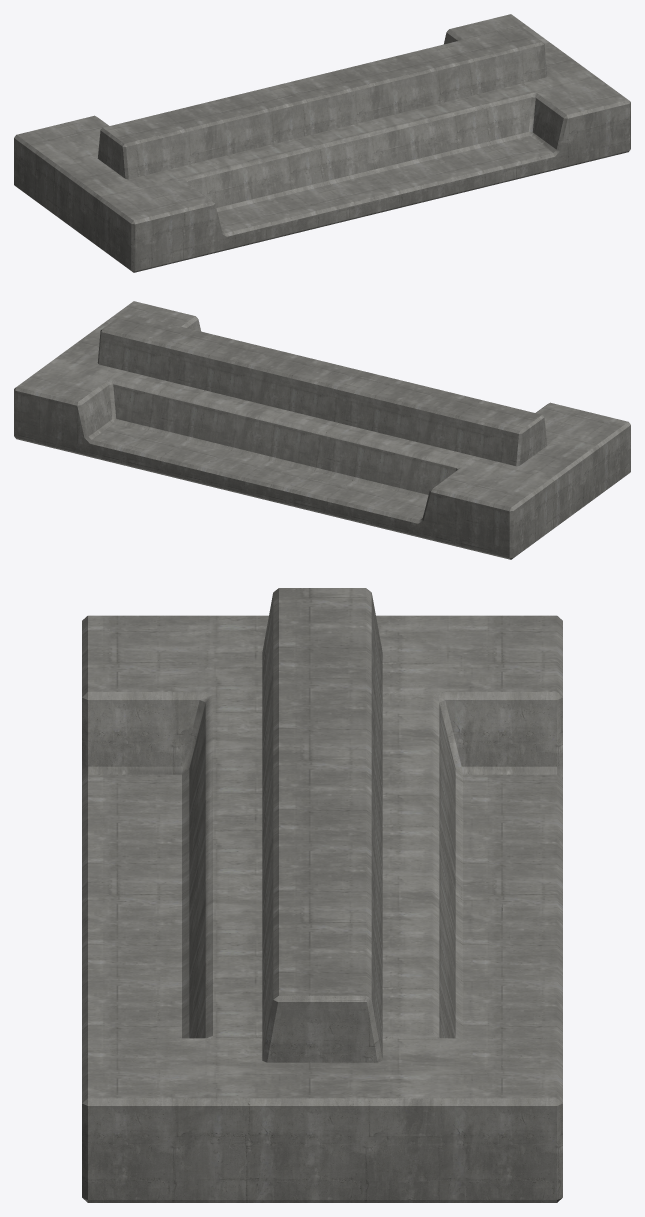
File: Kitbash3D_Brutalist_Vent07.fbx
The picture shows the model from 3 angles, top to bottom: view 1: azimuth 30°, elevation 25°; view 2: azimuth 150°, elevation 25°; view 3: azimuth 270°, elevation 25°; orthographic projection. The views are drawn at different scales.
Visible parts, largest first — view 1: DetailBench_Conc_Bench; view 2: DetailBench_Conc_Bench; view 3: DetailBench_Conc_Bench.
Boxes of the visible parts, box(x1,y1,x2,y2) form: DetailBench_Conc_Bench: box(14, 14, 630, 272); DetailBench_Conc_Bench: box(14, 301, 630, 559); DetailBench_Conc_Bench: box(82, 588, 562, 1202).
Size of the model in its own units: 6.5 by 1.05 by 2.71.
